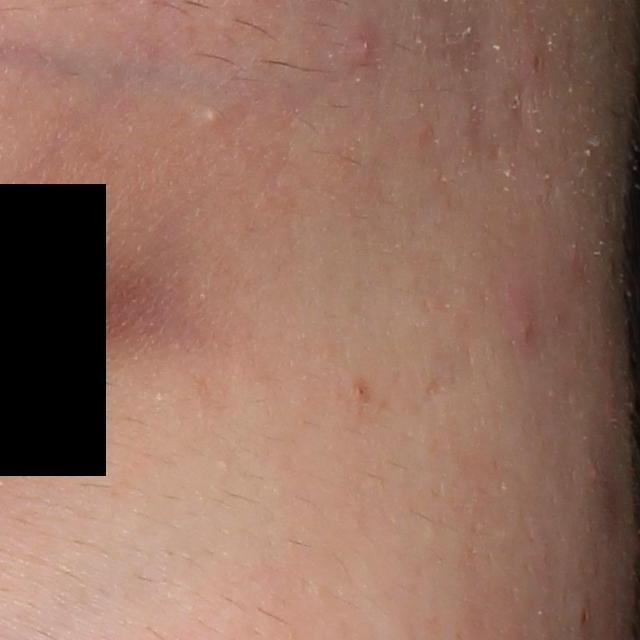comedo: (204, 108, 222, 127)
papule: (505, 308, 540, 343), (344, 25, 375, 63)
